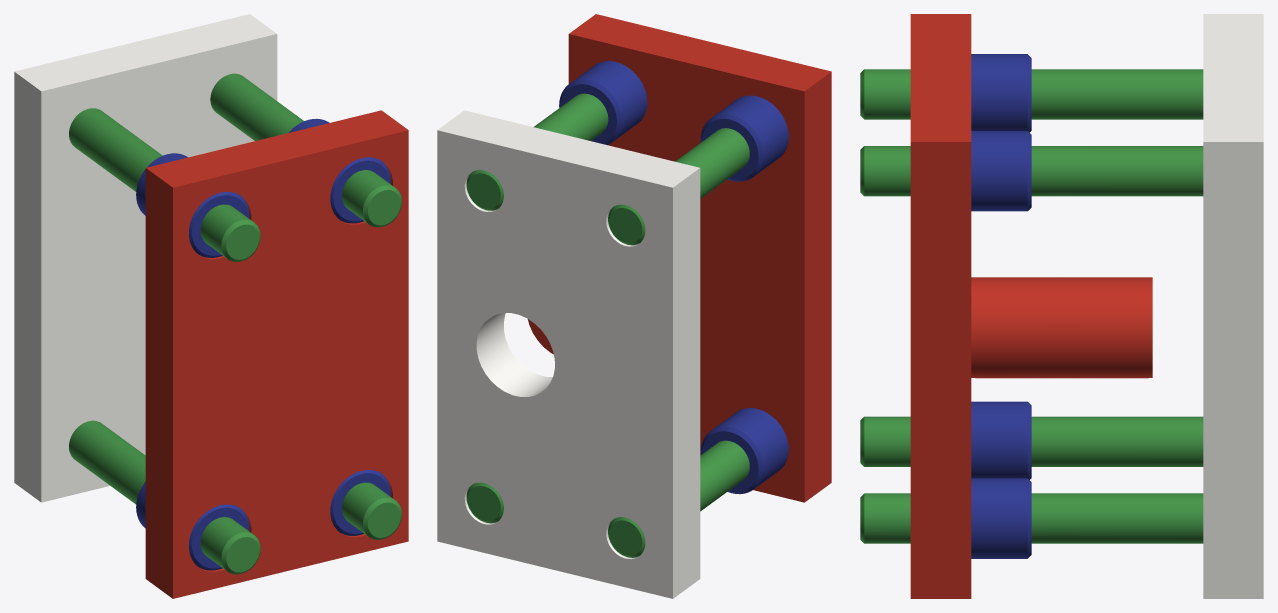
The model's file is Press Tool Assembly Merged.fbx.
3 renders of one model, left to right at view 1: azimuth 30°, elevation 25°; view 2: azimuth 150°, elevation 25°; view 3: azimuth 270°, elevation 25°, orthographic. The views are drawn at different scales.
Parts seen in each view (by area): view 1: Body2, Body1, Body10, Body8, Body9, Body7, Body6, Body4, Body5, Body3; view 2: Body1, Body2, Body6, Body4, Body10, Body5, Body8, Body9, Body7; view 3: Body2, Body1, Body8, Body9, Body7, Body10, Body5, Body3, Body4, Body6.
Boxes of the visible parts, bbox=[...] form: Body2: bbox=[145, 110, 408, 598]; Body1: bbox=[14, 14, 277, 502]; Body10: bbox=[69, 108, 260, 261]; Body8: bbox=[69, 420, 260, 574]; Body9: bbox=[210, 73, 401, 227]; Body7: bbox=[342, 482, 401, 539]; Body6: bbox=[136, 153, 249, 257]; Body4: bbox=[136, 482, 249, 570]; Body5: bbox=[288, 118, 391, 223]; Body3: bbox=[330, 470, 391, 535]; Body1: bbox=[437, 110, 700, 598]; Body2: bbox=[527, 14, 831, 502]; Body6: bbox=[700, 95, 788, 181]; Body4: bbox=[700, 408, 788, 494]; Body10: bbox=[608, 128, 749, 245]; Body5: bbox=[559, 61, 647, 144]; Body8: bbox=[608, 440, 749, 557]; Body9: bbox=[466, 93, 608, 210]; Body7: bbox=[466, 482, 503, 523]; Body2: bbox=[910, 14, 1152, 598]; Body1: bbox=[1203, 14, 1263, 598]; Body8: bbox=[860, 416, 1203, 466]; Body9: bbox=[860, 146, 1203, 196]; Body7: bbox=[860, 493, 1203, 543]; Body10: bbox=[860, 69, 1203, 119]; Body5: bbox=[971, 131, 1031, 211]; Body3: bbox=[971, 478, 1031, 558]; Body4: bbox=[971, 401, 1031, 479]; Body6: bbox=[971, 54, 1031, 132].
Bounding box in the file's own units: 150 × 250 × 200.
